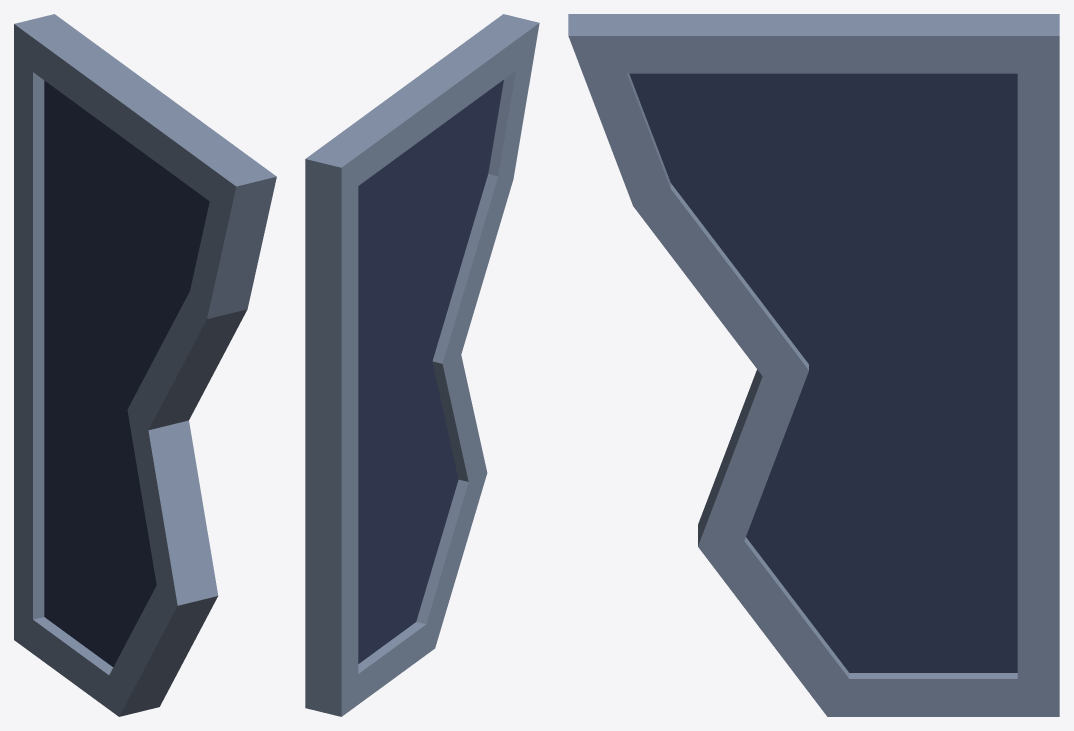
File: door2.fbx
3 views of the same model, side by side, from view 1: azimuth 30°, elevation 25°; view 2: azimuth 150°, elevation 25°; view 3: azimuth 270°, elevation 25° (orthographic). The views are drawn at different scales.
Visible parts, largest first — view 1: Cube.018; view 2: Cube.018; view 3: Cube.018.
Boxes of the visible parts, bbox=[...] form: Cube.018: bbox=[14, 14, 276, 716]; Cube.018: bbox=[305, 14, 539, 716]; Cube.018: bbox=[568, 14, 1059, 716].
Bounding box in the file's own units: 80 × 1160 × 758.
